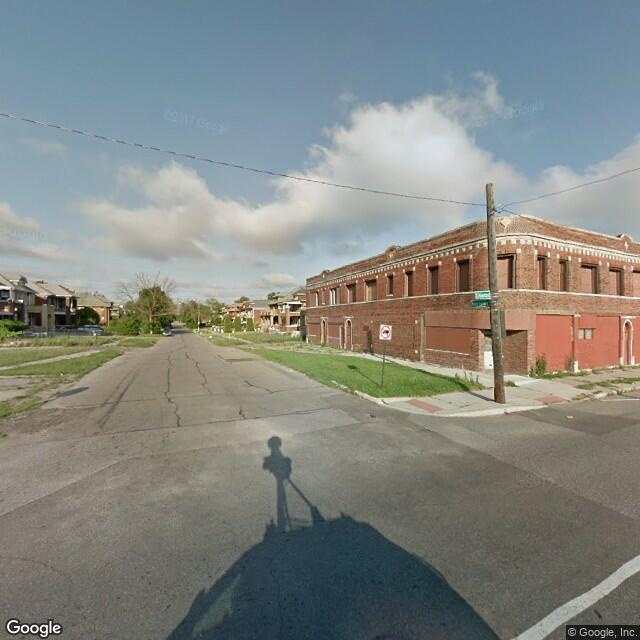litter: (565, 413, 576, 418), (59, 372, 66, 376)
